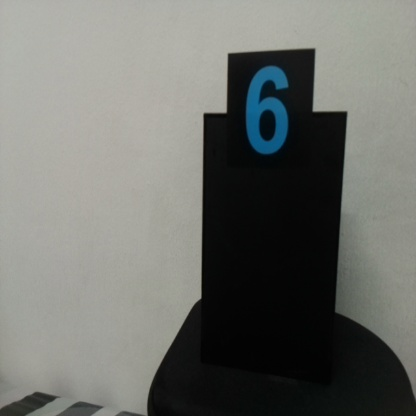id_6: (228, 53, 313, 186)
